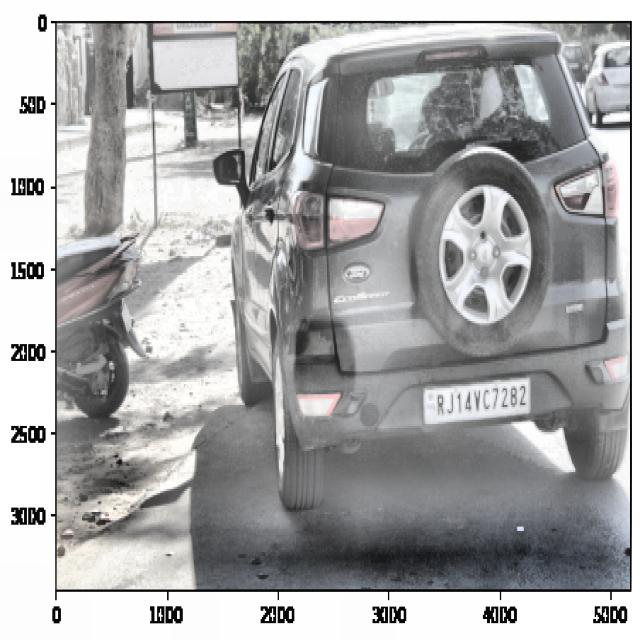license_plate: (429, 380, 532, 418)
